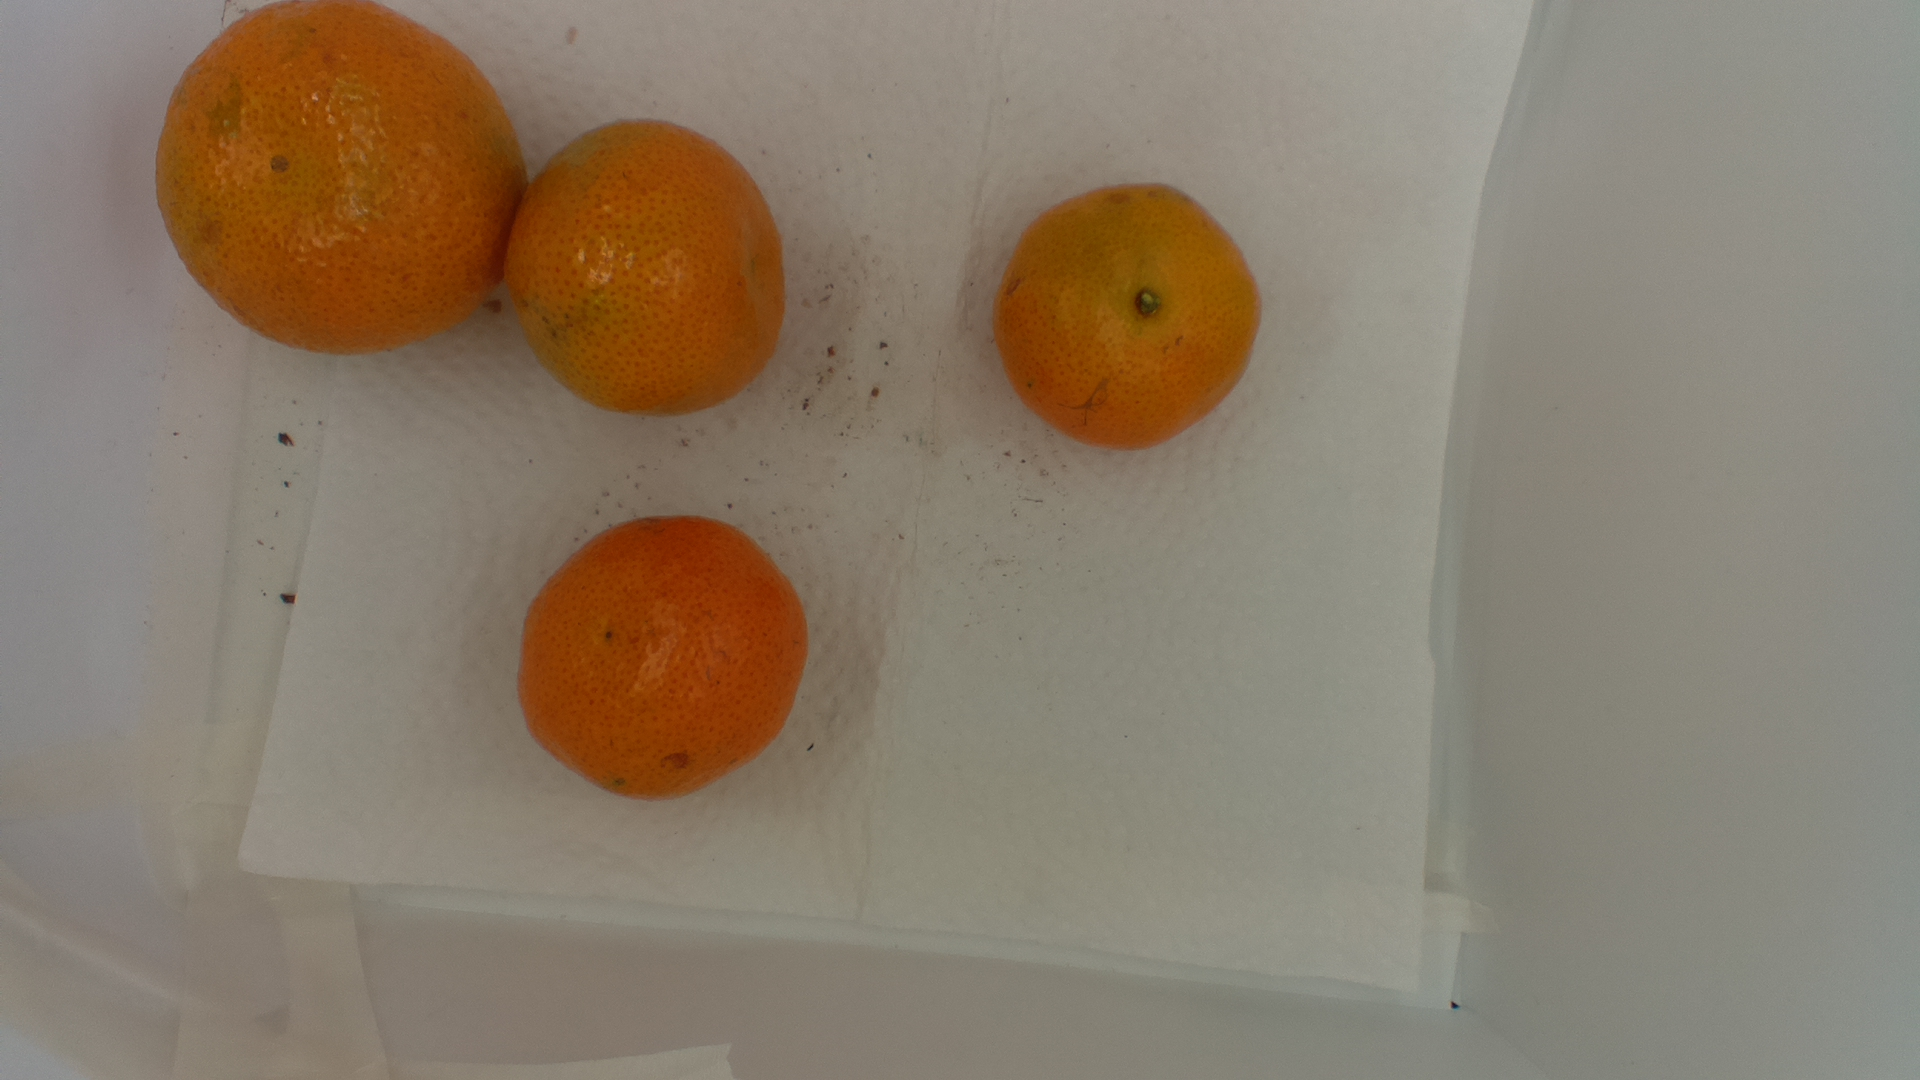fruit: (153, 1, 791, 423), (514, 512, 811, 808), (996, 178, 1269, 452)
